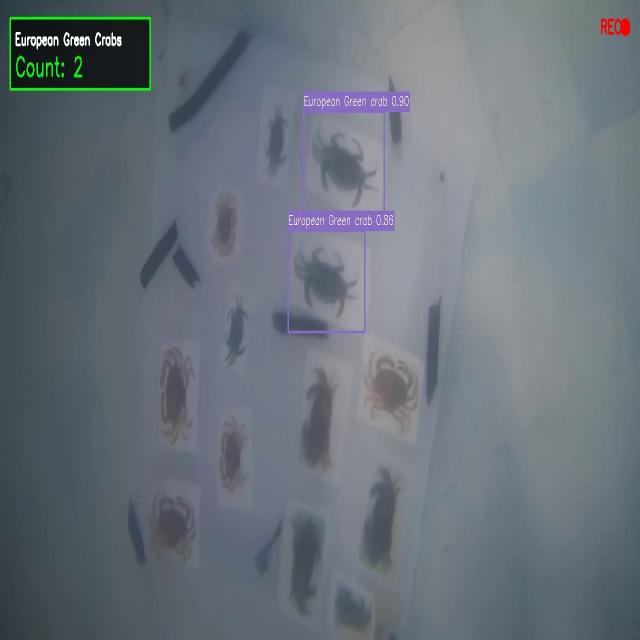European_Green_Crab: (308, 120, 382, 219), (285, 234, 358, 325), (215, 289, 255, 378), (259, 97, 292, 180)
